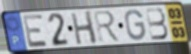2: (47, 12, 71, 48)
B: (144, 6, 170, 42)
E: (21, 13, 50, 49)
G: (124, 8, 147, 42)
H: (70, 10, 99, 46)
R: (92, 10, 122, 44)
